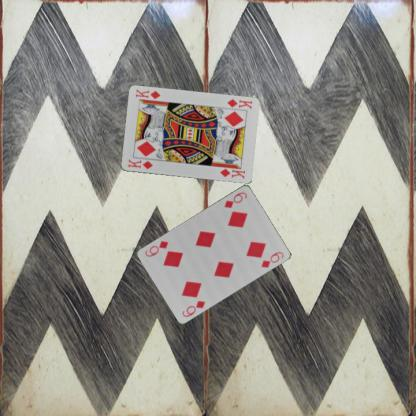6d: (221, 189, 249, 209), (180, 298, 206, 318)
Kd: (125, 156, 154, 170), (224, 96, 253, 110)
